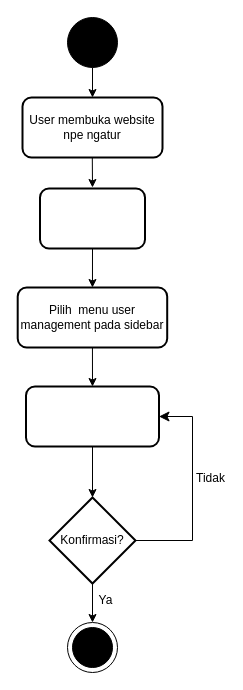
Some shapes in this 243 by 690 pixel diagram are drawn without their labels. Each missing label, with the box of its shape:
Login sebagai admin: (38, 187, 146, 249)
Tekan tombol hapus pada user tertentu: (24, 385, 160, 447)
